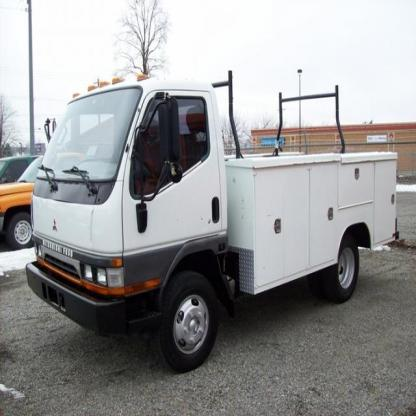truck: (25, 71, 399, 371)
